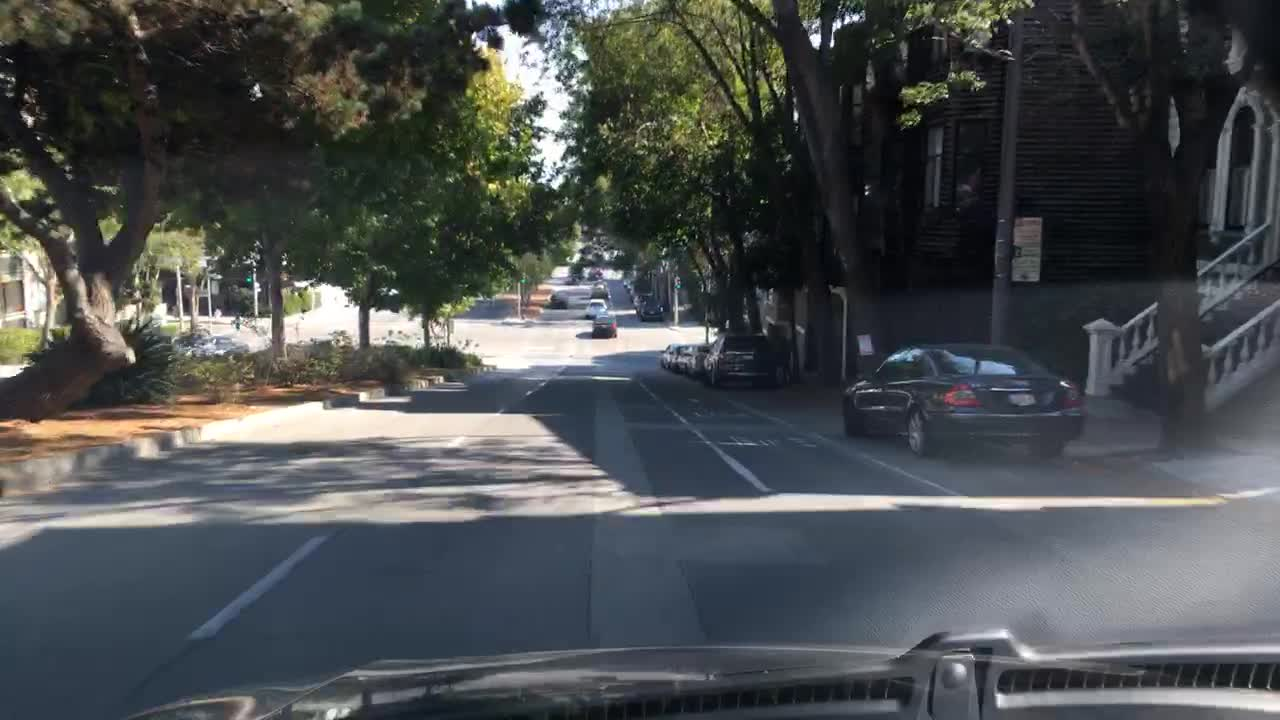car: (836, 341, 1090, 459), (701, 331, 786, 389), (692, 343, 709, 382), (591, 311, 615, 337), (674, 343, 694, 374), (638, 300, 665, 320), (530, 284, 553, 306), (659, 343, 676, 370), (583, 301, 606, 320), (588, 282, 612, 300), (550, 290, 568, 310), (626, 287, 642, 304), (631, 291, 649, 306), (588, 262, 602, 281), (622, 269, 635, 285), (627, 278, 641, 291)
traffic light: (242, 262, 250, 286)
traffic sign: (1009, 251, 1040, 282), (1012, 217, 1042, 247)
